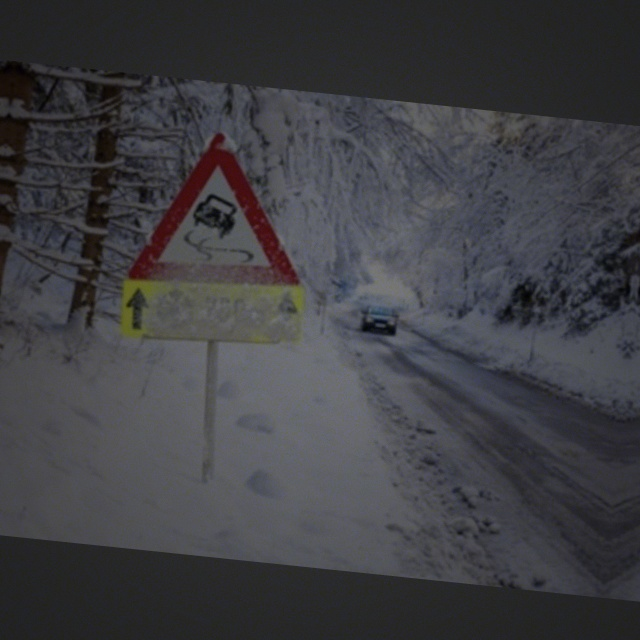Slippery_Road: (128, 118, 305, 308)
